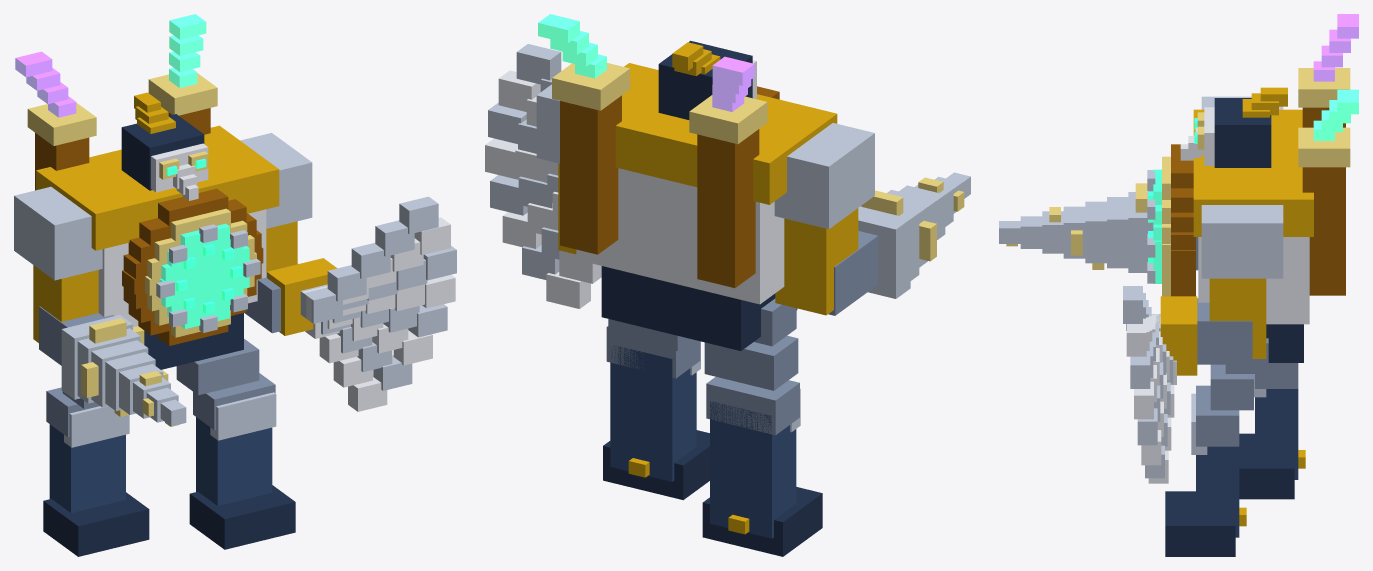
The model's file is syndicate-gilded-automaton.glb.
3 views of the same model, side by side, from view 1: azimuth 30°, elevation 25°; view 2: azimuth 150°, elevation 25°; view 3: azimuth 270°, elevation 25° (orthographic). The views are drawn at different scales.
Visible parts, largest first — view 1: WingBlades, Boots, MantleCladding, ShoulderPlates, Core, FlywheelFrame, ScrewDrill, ArmPistons, Trousers, Chassis, Greaves, ExhaustRim (+9 smaller); view 2: Boots, Chassis, Exhaust, WingBlades, Trousers, MantleCladding, ShoulderPlates, ArmPistons, ScrewDrill, ExhaustRim, Core, Hood (+3 smaller); view 3: Boots, MantleCladding, ScrewDrill, WingBlades, ShoulderPlates, ArmPistons, Trousers, Exhaust, Chassis, FlywheelFrame, Core, Hood (+7 smaller).
Boxes of the visible parts, <box> form: WingBlades: <box>300,196,456,411</box>; Boots: <box>43,417,295,556</box>; MantleCladding: <box>36,125,279,250</box>; ShoulderPlates: <box>14,133,312,280</box>; Core: <box>15,14,250,328</box>; FlywheelFrame: <box>122,188,263,345</box>; ScrewDrill: <box>61,315,186,426</box>; ArmPistons: <box>33,221,297,365</box>; Trousers: <box>46,339,275,437</box>; Chassis: <box>98,209,266,369</box>; Greaves: <box>64,392,276,447</box>; ExhaustRim: <box>27,73,217,145</box>; Boots: <box>603,345,822,556</box>; Chassis: <box>576,168,797,350</box>; Exhaust: <box>560,95,759,287</box>; WingBlades: <box>485,44,601,308</box>; Trousers: <box>606,298,799,435</box>; MantleCladding: <box>615,63,837,204</box>; ShoulderPlates: <box>536,84,874,229</box>; ArmPistons: <box>558,163,878,315</box>; ScrewDrill: <box>858,172,970,298</box>; ExhaustRim: <box>552,63,767,144</box>; Core: <box>538,14,754,111</box>; Hood: <box>658,40,752,119</box>; Boots: <box>1165,389,1298,556</box>; MantleCladding: <box>1193,109,1313,236</box>; ScrewDrill: <box>999,192,1153,272</box>; WingBlades: <box>1123,286,1176,483</box>; ShoulderPlates: <box>1201,96,1283,278</box>; ArmPistons: <box>1196,237,1266,364</box>; Trousers: <box>1196,338,1298,446</box>; Exhaust: <box>1302,107,1345,295</box>; Chassis: <box>1198,237,1309,362</box>; FlywheelFrame: <box>1162,144,1195,296</box>; Core: <box>1153,14,1358,283</box>; Hood: <box>1214,98,1271,167</box>.
Bounding box in the file's own units: 1.98 × 2.24 × 1.61.
